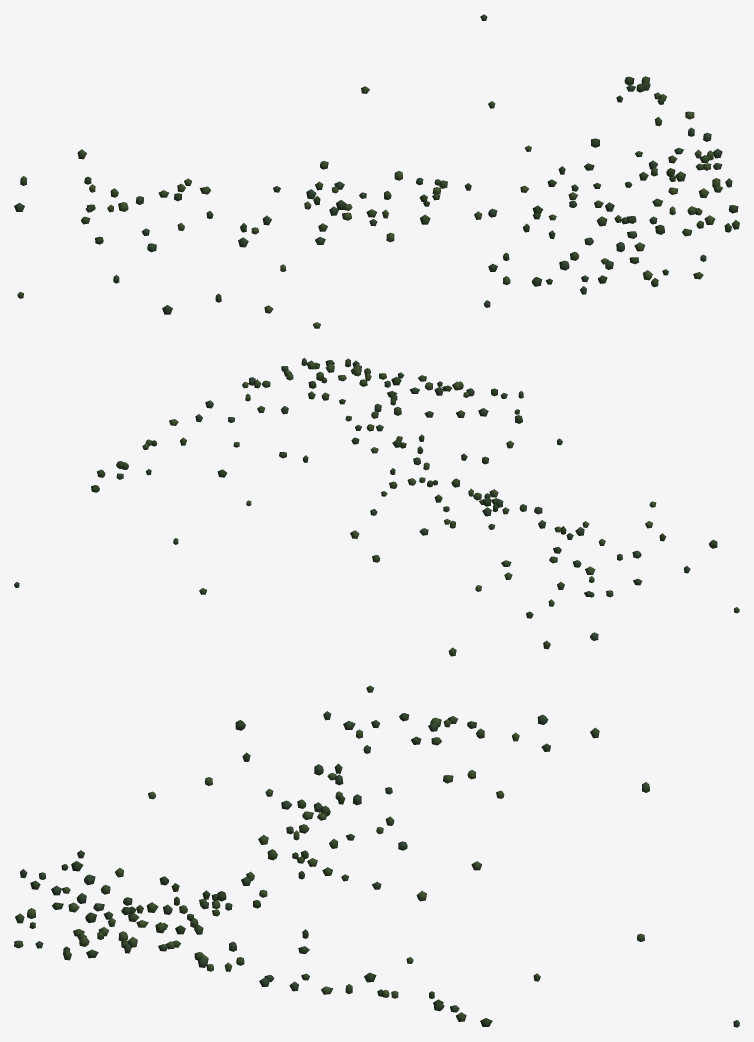
The model's file is SM_Fondale_Colle_Alberi_01_LOD1.fbx.
3 views of the same model, one above another, from view 1: azimuth 30°, elevation 25°; view 2: azimuth 150°, elevation 25°; view 3: azimuth 270°, elevation 25° (orthographic). The views are drawn at different scales.
Visible parts, largest first — view 1: SM_Fondale_Colle_Alberi_01_LOD1; view 2: SM_Fondale_Colle_Alberi_01_LOD1; view 3: SM_Fondale_Colle_Alberi_01_LOD1.
Boxes of the visible parts, x1,y1,x2,y2 form: SM_Fondale_Colle_Alberi_01_LOD1: [14, 14, 739, 328]; SM_Fondale_Colle_Alberi_01_LOD1: [14, 357, 739, 656]; SM_Fondale_Colle_Alberi_01_LOD1: [14, 685, 739, 1027].
Size of the model in its own units: 109510 by 94693 by 9924.
